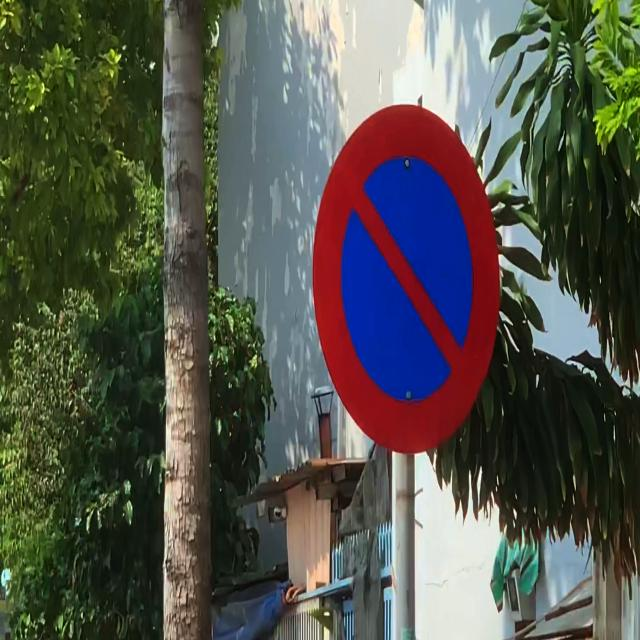Cam do: (304, 102, 518, 465)
